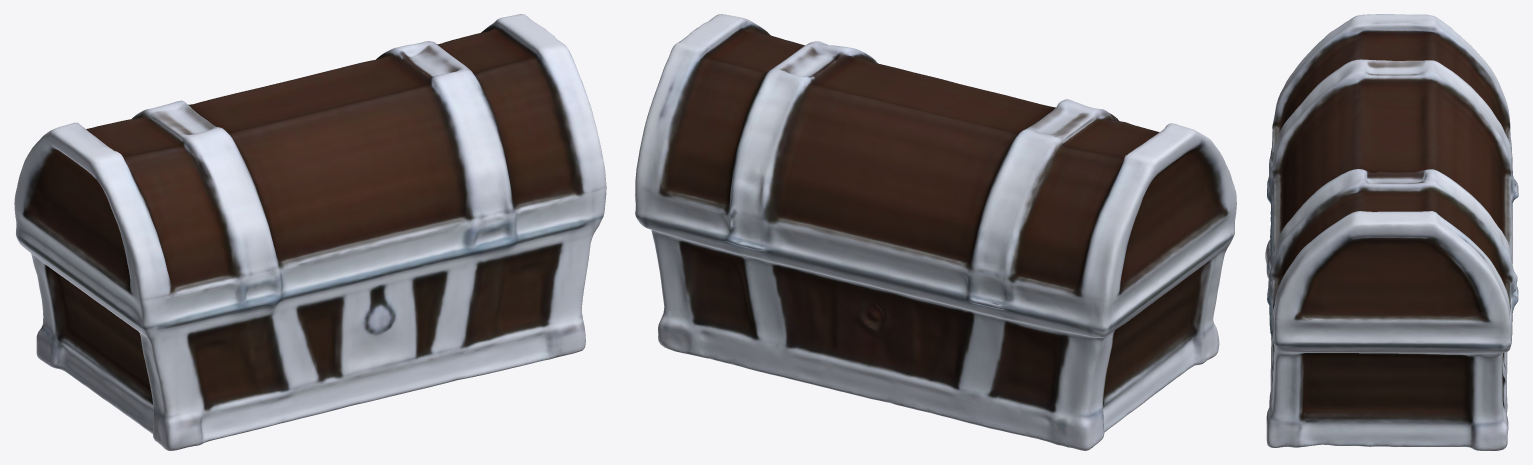
File: c129ba30cbaf_a52009cc906d_chest__3d_asset_0_g.glb
3 views of the same model, side by side, from view 1: azimuth 30°, elevation 25°; view 2: azimuth 150°, elevation 25°; view 3: azimuth 270°, elevation 25° (orthographic). The views are drawn at different scales.
Parts seen in each view (by area): view 1: high_poly; view 2: high_poly; view 3: high_poly.
Part boxes in pixels (x1,y1,x2,y2): high_poly: (14, 14, 606, 450); high_poly: (635, 14, 1236, 450); high_poly: (1265, 14, 1518, 450).
Size of the model in its own units: 1 by 0.5337 by 0.5086.
Materials: 1 (1 with a texture image).
